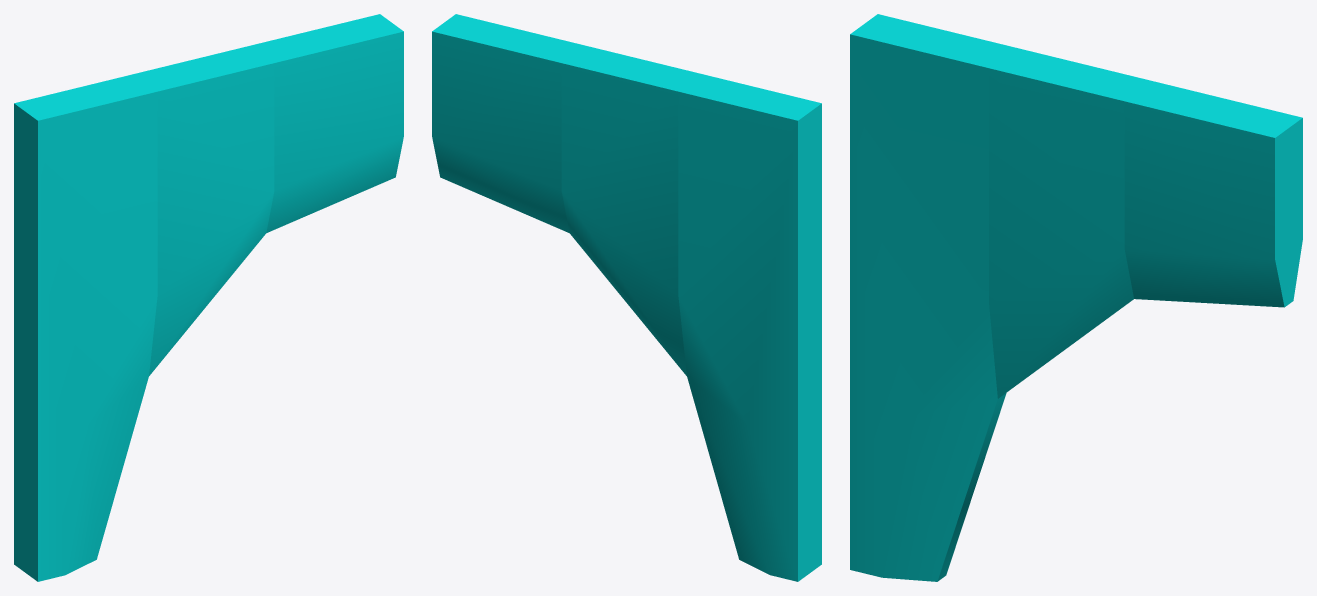
The model's file is SM_Bld_Bridge_L_End_01_Collision.fbx.
The picture shows the model from 3 angles, left to right: view 1: azimuth 30°, elevation 25°; view 2: azimuth 150°, elevation 25°; view 3: azimuth 330°, elevation 25°; orthographic projection. The views are drawn at different scales.
Visible parts, largest first — view 1: SM_Bld_Bridge_L_End_01_Collision; view 2: SM_Bld_Bridge_L_End_01_Collision; view 3: SM_Bld_Bridge_L_End_01_Collision.
Part boxes in pixels (left/top/right/bottom): SM_Bld_Bridge_L_End_01_Collision: left=14, top=14, right=403, bottom=581; SM_Bld_Bridge_L_End_01_Collision: left=432, top=14, right=821, bottom=581; SM_Bld_Bridge_L_End_01_Collision: left=850, top=14, right=1302, bottom=581.
Bounding box in the file's own units: 499 × 601 × 56.54.
